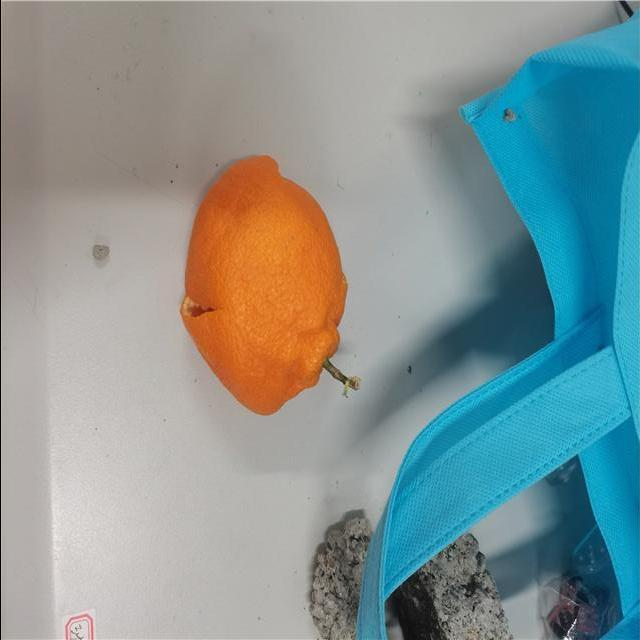orange peel: (167, 132, 366, 435)
